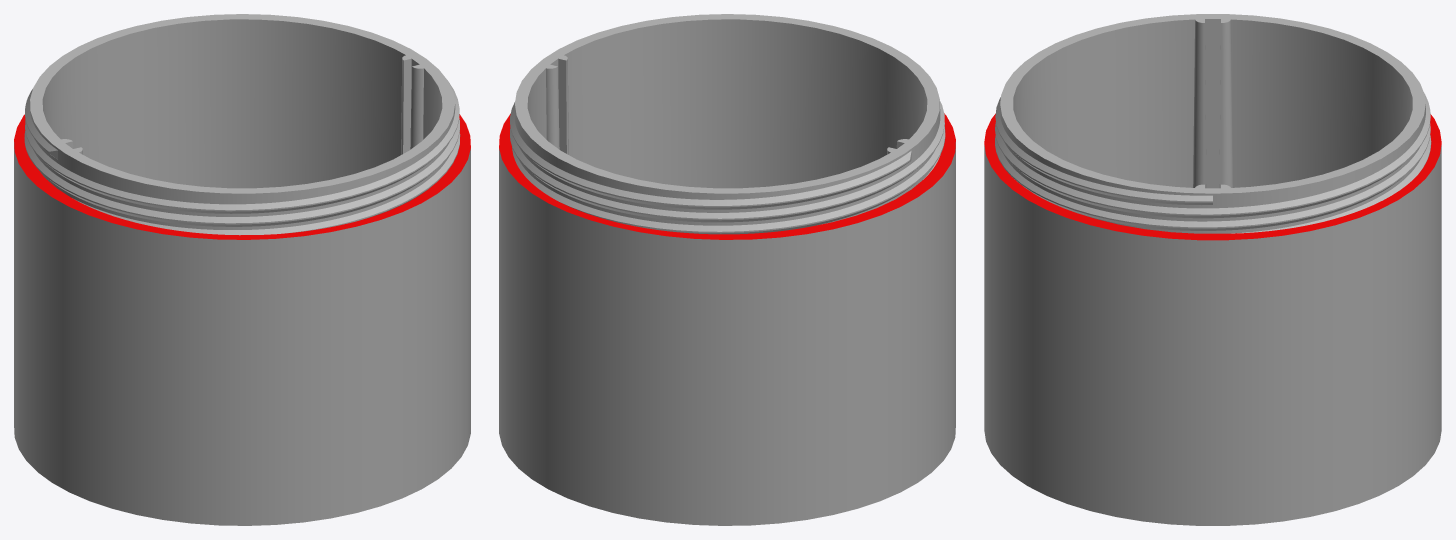
The model's file is hybrid_pod_260520.glb.
3 renders of one model, left to right at view 1: azimuth 30°, elevation 25°; view 2: azimuth 150°, elevation 25°; view 3: azimuth 270°, elevation 25°, orthographic.
Visible parts, largest first — view 1: Hybrid Pod 260520.SLDPRT; view 2: Hybrid Pod 260520.SLDPRT; view 3: Hybrid Pod 260520.SLDPRT.
Boxes of the visible parts, x1=… form: Hybrid Pod 260520.SLDPRT: x1=14, y1=14, x2=470, y2=525; Hybrid Pod 260520.SLDPRT: x1=499, y1=14, x2=955, y2=525; Hybrid Pod 260520.SLDPRT: x1=984, y1=14, x2=1441, y2=525.
Bounding box in the file's own units: 0.0646 × 0.0508 × 0.0647.
